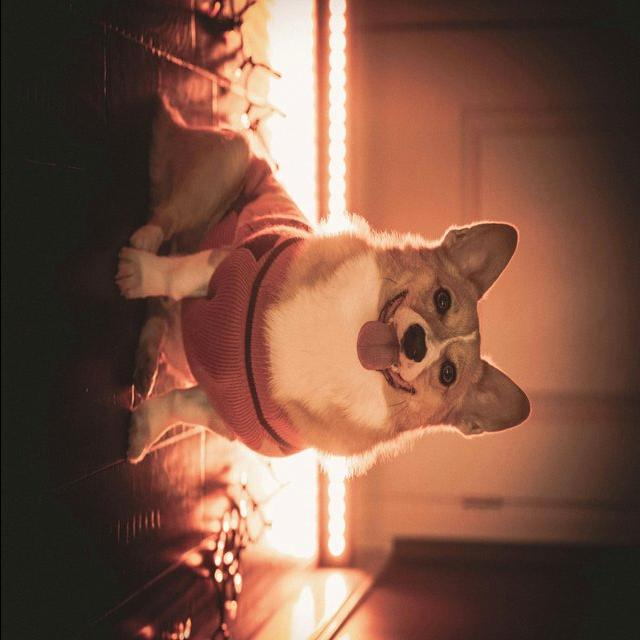corgi: (114, 90, 532, 478)
